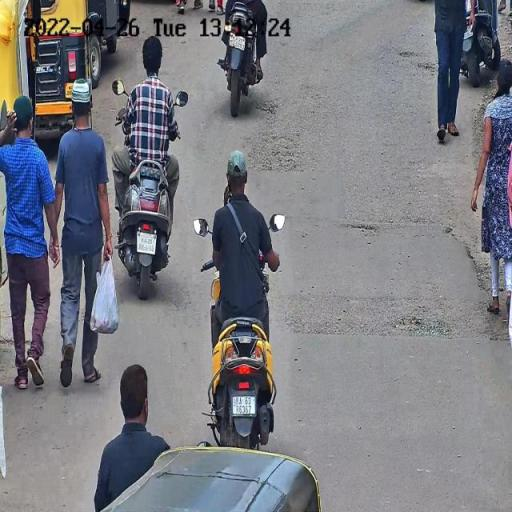using mobile: (224, 178, 232, 207)
